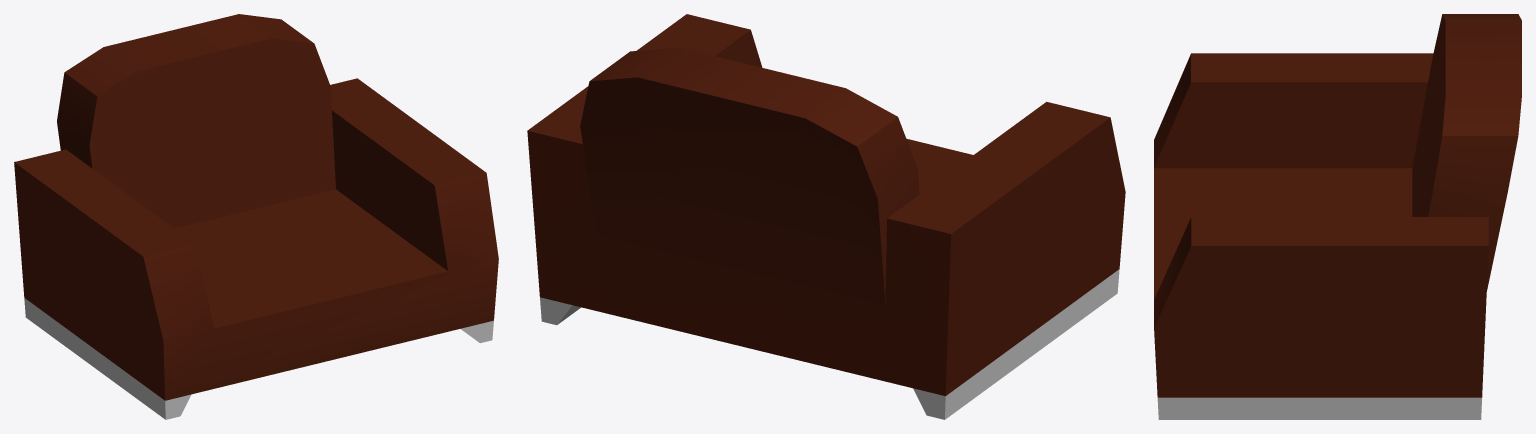
File: chair_01.FBX
3 renders of one model, left to right at view 1: azimuth 30°, elevation 25°; view 2: azimuth 150°, elevation 25°; view 3: azimuth 270°, elevation 25°, orthographic. The views are drawn at different scales.
Visible parts, largest first — view 1: Box009; view 2: Box009; view 3: Box009.
Part boxes in pixels (left/top/right/bottom): Box009: left=14, top=14, right=498, bottom=419; Box009: left=527, top=14, right=1125, bottom=419; Box009: left=1154, top=14, right=1521, bottom=419.
Size of the model in its own units: 89.41 by 58.26 by 72.05.
